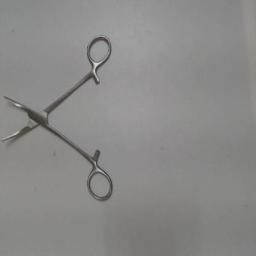Crile Artery Forceps: (0, 31, 116, 203)
